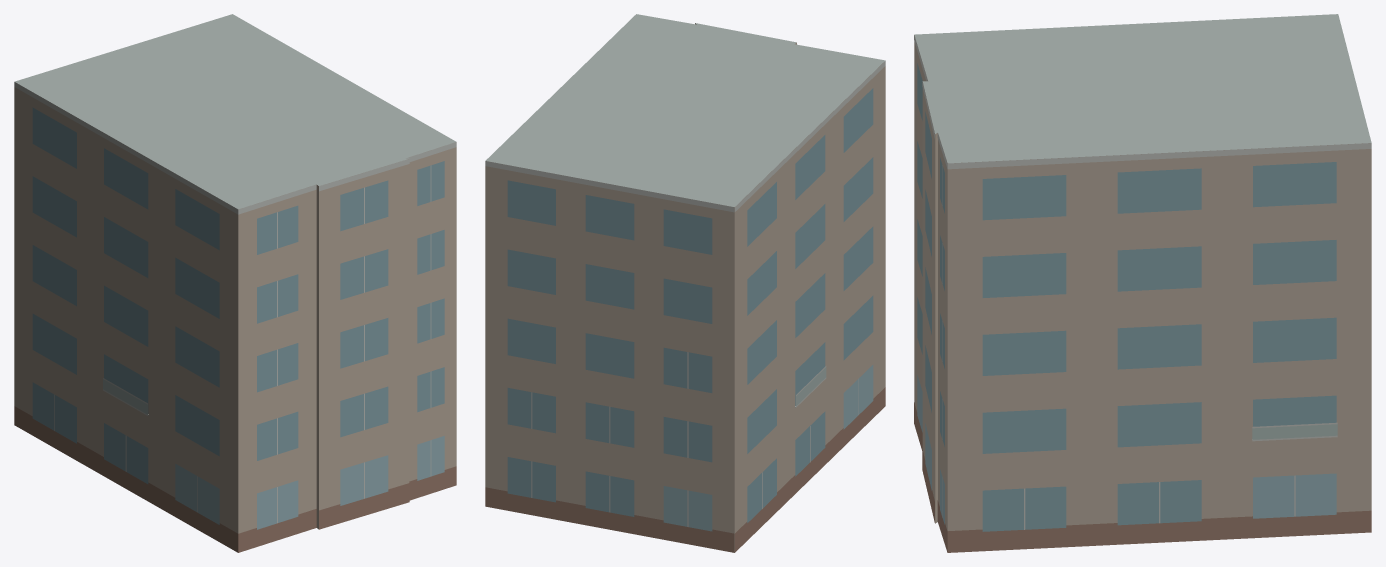
The model's file is survey-upis-32490545.glb.
3 views of the same model, side by side, from view 1: azimuth 30°, elevation 25°; view 2: azimuth 150°, elevation 25°; view 3: azimuth 270°, elevation 25° (orthographic). The views are drawn at different scales.
Visible parts, largest first — view 1: survey-upis-32490545.tmp; view 2: survey-upis-32490545.tmp; view 3: survey-upis-32490545.tmp.
Boxes of the visible parts, x1,y1,x2,y2 form: survey-upis-32490545.tmp: (14,14,456,552); survey-upis-32490545.tmp: (485,14,885,552); survey-upis-32490545.tmp: (914,14,1371,552).
Size of the model in its own units: 13.26 by 16.1 by 17.15.
